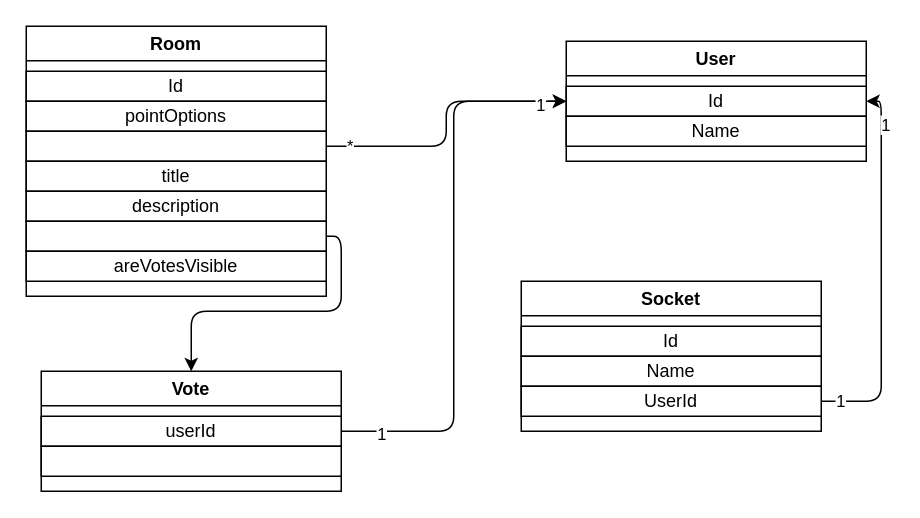
Image size: 920x518. Some labels were removed from this diagram. Each missing label, with the centre of its shape:
members: point 175,145
points: point 190,460
votes: point 175,235
